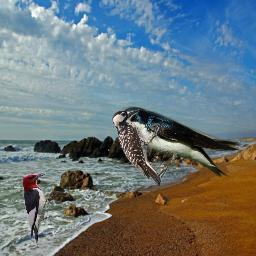Swallow: (116, 106, 245, 182)
Woodpecker: (112, 109, 164, 186), (22, 172, 53, 247)
